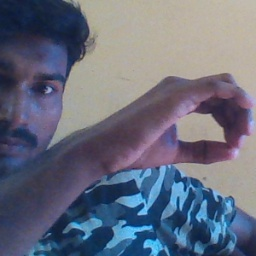O: (107, 62, 256, 177)
